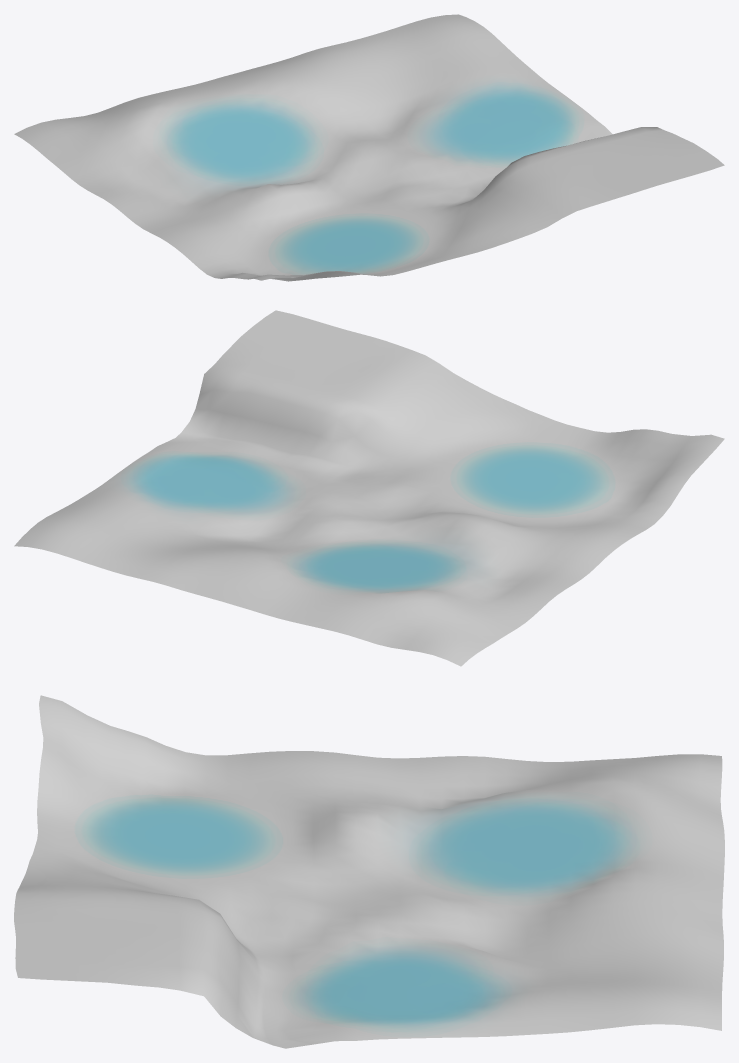
The model's file is terrain-opti.glb.
3 renders of one model, top to bottom at view 1: azimuth 30°, elevation 25°; view 2: azimuth 150°, elevation 25°; view 3: azimuth 270°, elevation 25°, orthographic. The views are drawn at different scales.
Parts seen in each view (by area): view 1: ground.col; view 2: ground.col; view 3: ground.col.
Boxes of the visible parts, x1,y1,x2,y2 form: ground.col: (14, 14, 724, 281); ground.col: (14, 310, 724, 666); ground.col: (14, 695, 724, 1048).
Bounding box in the file's own units: 20.62 × 2.5 × 20.78.
1 material, 1 textured.
